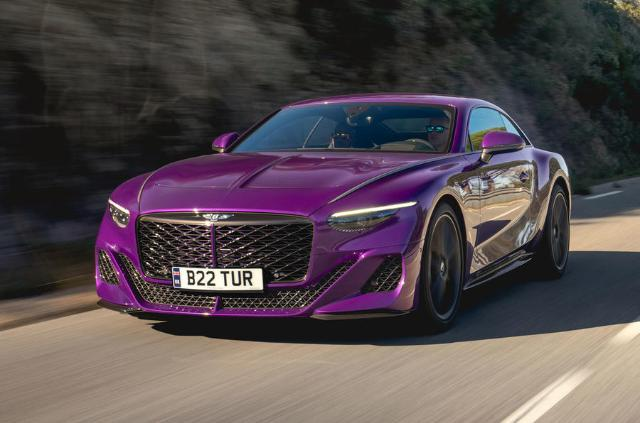bentley: (95, 93, 572, 333)
